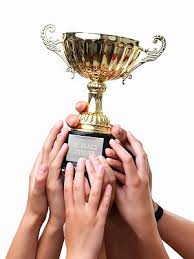trophy: (40, 23, 168, 173)
